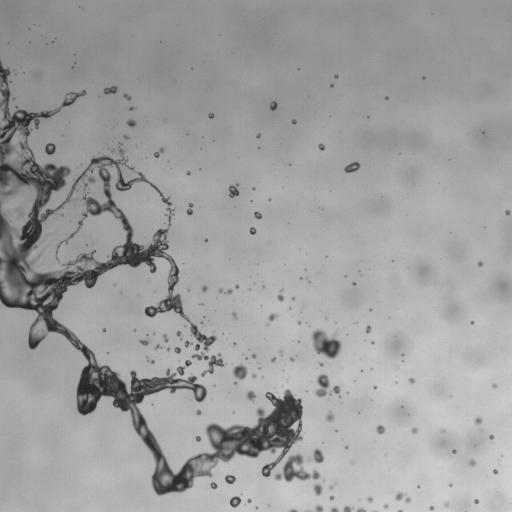droplet: (274, 453, 320, 482), (311, 329, 341, 358), (314, 374, 340, 397), (232, 364, 247, 380), (308, 448, 324, 463), (344, 162, 360, 172), (229, 184, 239, 197), (230, 496, 241, 507), (45, 143, 55, 154), (246, 390, 256, 401), (313, 483, 322, 495), (104, 86, 117, 93), (325, 411, 334, 421), (225, 475, 235, 484), (277, 289, 284, 301), (376, 425, 385, 434), (126, 119, 136, 127), (139, 338, 150, 345), (474, 416, 482, 424), (270, 101, 277, 110), (123, 93, 131, 100), (17, 208, 24, 216), (254, 211, 261, 219), (176, 330, 182, 339), (365, 325, 371, 333), (184, 340, 192, 346), (146, 357, 154, 363), (469, 458, 475, 466), (249, 227, 255, 234), (201, 285, 207, 292), (162, 334, 168, 341), (174, 347, 181, 353), (411, 427, 417, 434), (210, 482, 216, 489), (155, 344, 163, 349), (318, 144, 324, 150), (367, 496, 373, 502), (443, 501, 449, 507), (226, 289, 232, 294), (270, 357, 276, 362), (409, 378, 415, 383), (195, 436, 201, 441), (232, 312, 236, 319), (208, 113, 213, 118), (505, 210, 510, 215), (478, 261, 483, 266), (251, 373, 256, 378), (196, 409, 201, 414), (129, 106, 134, 110), (292, 119, 296, 124), (256, 133, 260, 138), (123, 135, 128, 139), (251, 354, 256, 358), (289, 357, 294, 361), (492, 383, 496, 388), (489, 434, 493, 439), (493, 469, 497, 474), (329, 485, 334, 489), (329, 496, 334, 500), (429, 506, 434, 510), (334, 74, 338, 78), (186, 171, 190, 175), (235, 284, 239, 288), (219, 288, 223, 292), (319, 362, 323, 366), (474, 499, 478, 503), (383, 504, 387, 508), (291, 297, 295, 300), (297, 321, 301, 324), (279, 350, 282, 354), (373, 385, 377, 388), (441, 429, 445, 432), (344, 445, 348, 448), (452, 450, 456, 453), (247, 499, 251, 502), (330, 84, 333, 87), (471, 321, 474, 324), (102, 329, 105, 332), (166, 348, 169, 351), (234, 381, 237, 384), (398, 509, 402, 511), (385, 96, 387, 99), (111, 149, 113, 152), (353, 282, 355, 285), (449, 484, 452, 486), (205, 239, 207, 241), (233, 343, 235, 345), (371, 342, 373, 344)
ligament: (0, 60, 302, 495), (395, 492, 410, 503), (266, 313, 277, 325), (305, 504, 323, 511), (343, 506, 366, 511), (154, 147, 164, 157), (186, 203, 193, 214), (330, 506, 339, 511), (54, 255, 59, 261), (288, 508, 298, 511), (372, 510, 377, 511)
